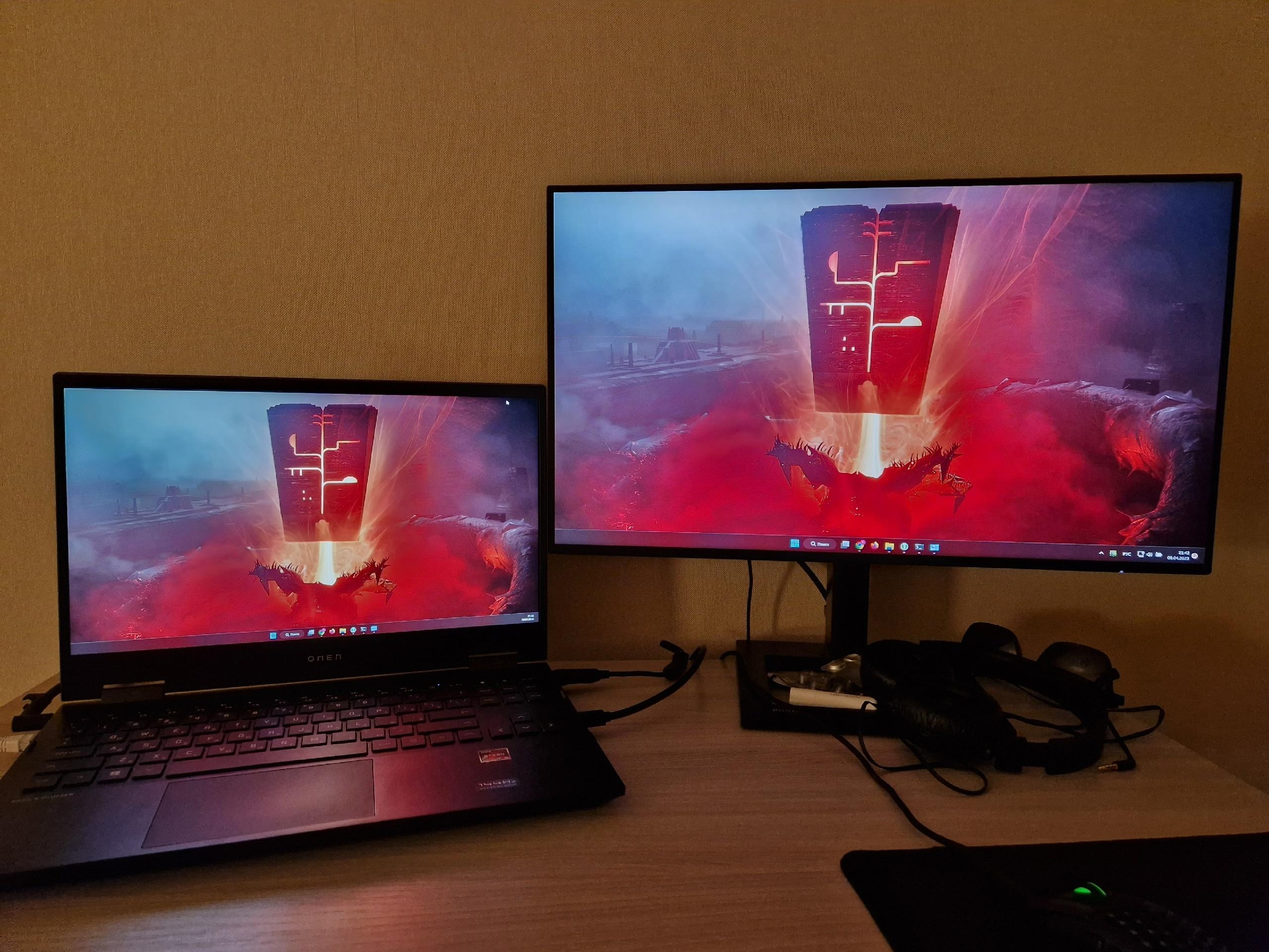monitor: (543, 171, 1242, 577), (50, 369, 551, 699)
